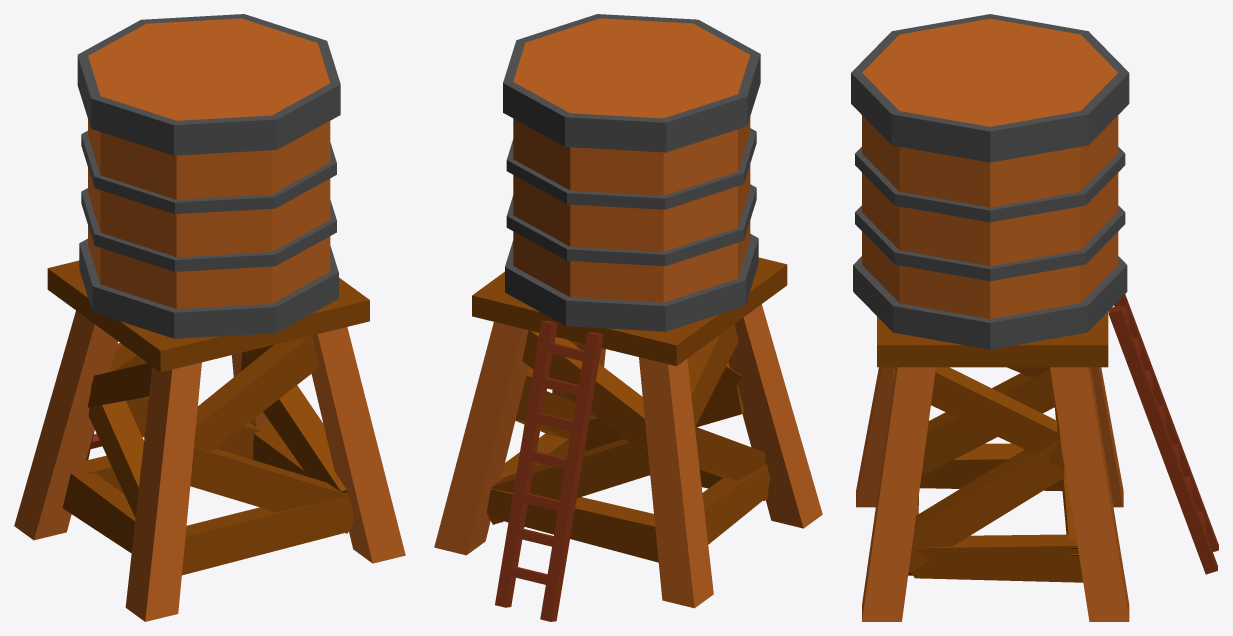
The model's file is Water_Tank.fbx.
3 views of the same model, side by side, from view 1: azimuth 30°, elevation 25°; view 2: azimuth 150°, elevation 25°; view 3: azimuth 270°, elevation 25° (orthographic). The views are drawn at different scales.
Parts seen in each view (by area): view 1: WaterTank; view 2: WaterTank; view 3: WaterTank.
Part boxes in pixels (left/top/right/bottom): WaterTank: left=14, top=14, right=405, bottom=621; WaterTank: left=434, top=14, right=822, bottom=621; WaterTank: left=851, top=14, right=1218, bottom=621.
Size of the model in its own units: 143 by 249 by 169.
